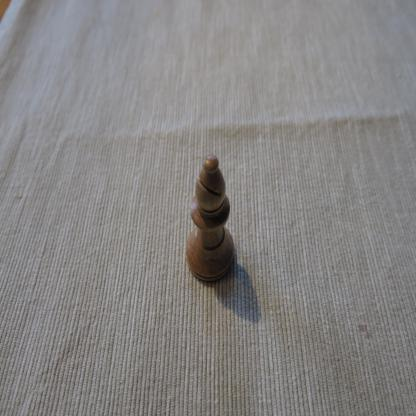white-bishop: (184, 152, 236, 283)
